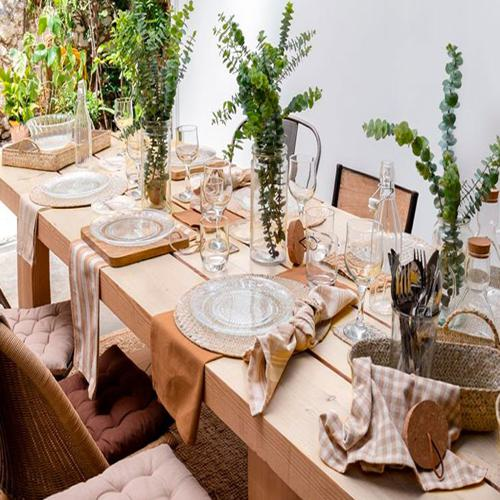copa: (345, 216, 385, 344), (201, 159, 239, 254), (288, 153, 317, 228), (173, 124, 199, 205), (112, 97, 134, 172)
vaso: (201, 211, 232, 272), (303, 236, 340, 287), (303, 206, 335, 256)
